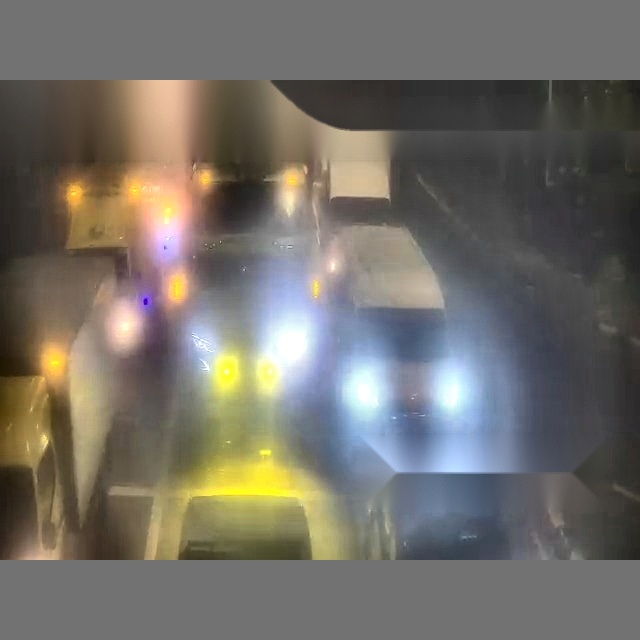Bis: (136, 224, 568, 560)
Motor: (108, 297, 144, 358), (278, 164, 305, 218)
